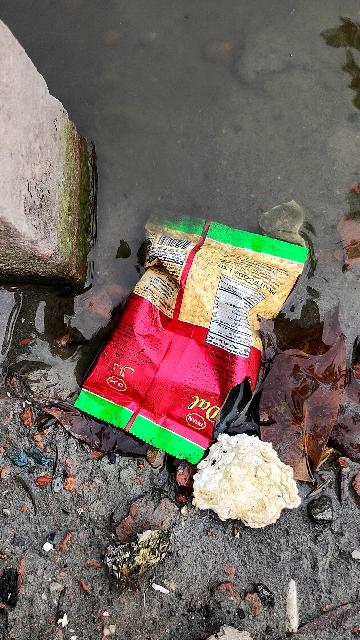packet: (46, 159, 317, 467)
